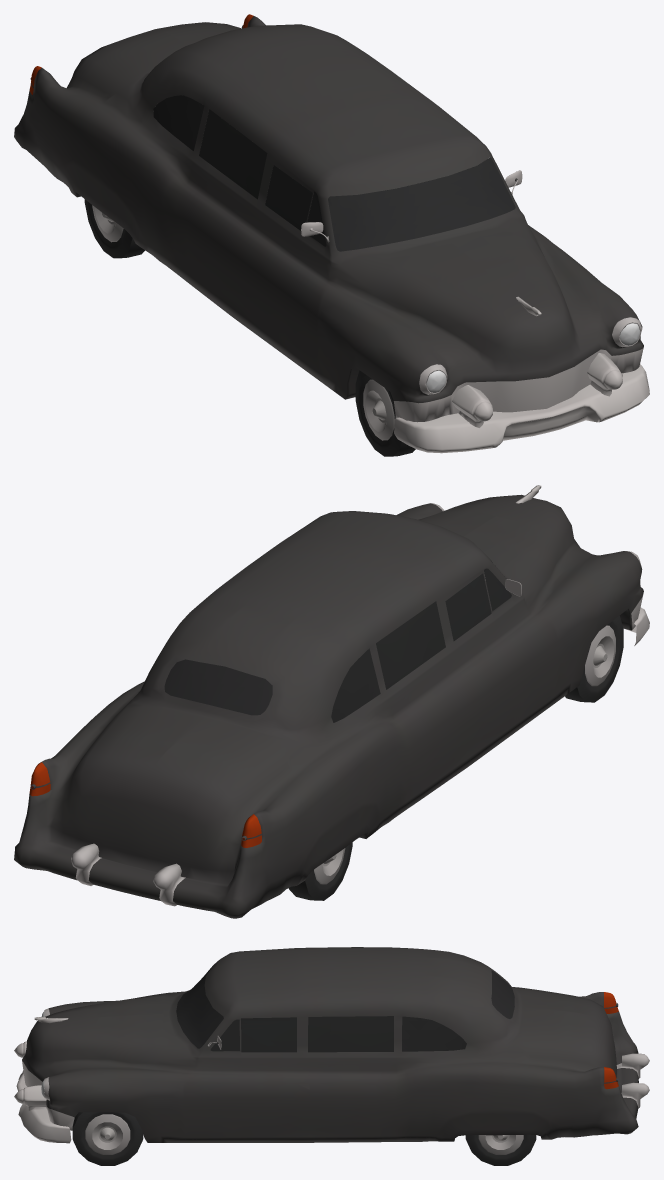
The model's file is Car_test.fbx.
3 renders of one model, top to bottom at view 1: azimuth 30°, elevation 25°; view 2: azimuth 150°, elevation 25°; view 3: azimuth 270°, elevation 25°, orthographic. The views are drawn at different scales.
Parts seen in each view (by area): view 1: LowBody, LowGlass, LowInterior; view 2: LowBody, LowGlass, LowInterior; view 3: LowBody, LowGlass, LowInterior.
Part boxes in pixels (left/top/right/bottom): LowBody: left=14, top=16, right=649, bottom=453; LowGlass: left=29, top=14, right=640, bottom=392; LowInterior: left=84, top=199, right=415, bottom=456; LowBody: left=14, top=485, right=649, bottom=918; LowGlass: left=29, top=560, right=511, bottom=847; LowInterior: left=288, top=616, right=623, bottom=900; LowBody: left=14, top=947, right=649, bottom=1143; LowGlass: left=41, top=966, right=618, bottom=1096; LowInterior: left=72, top=1112, right=536, bottom=1165.
Size of the model in its own units: 1.78 by 1.54 by 5.45.
